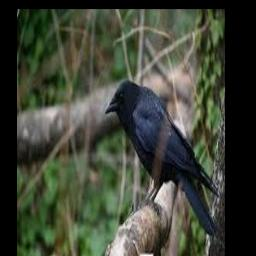Crow: (105, 79, 222, 240)
